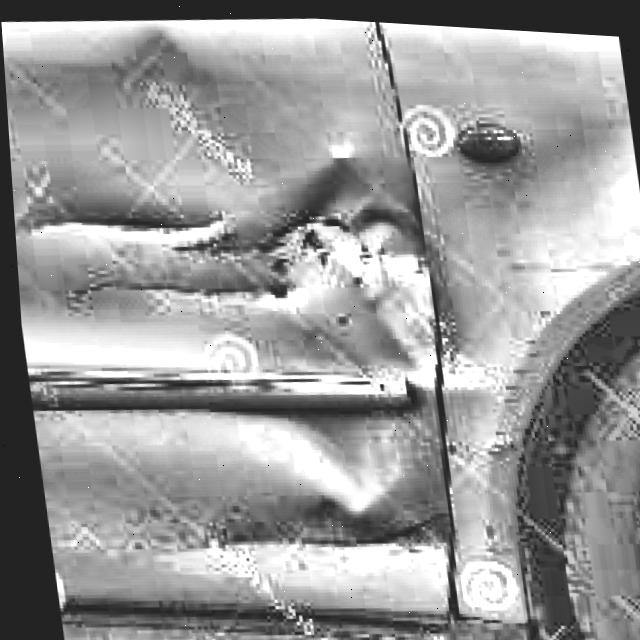door_dent: (213, 140, 463, 576)
